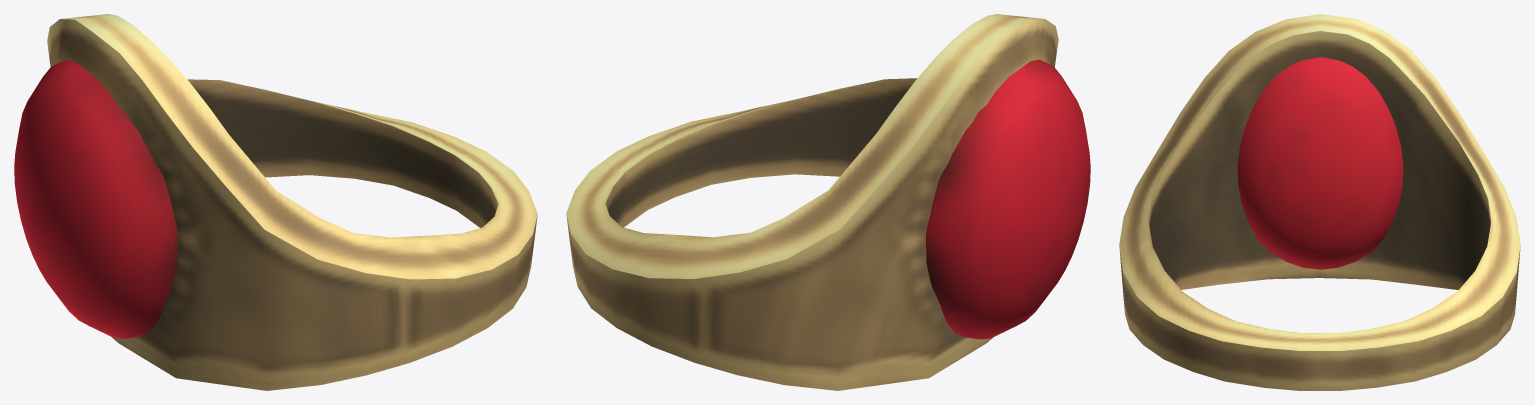
Rendered from SM_Ring_C_Gold.fbx.
The picture shows the model from 3 angles, left to right: view 1: azimuth 30°, elevation 25°; view 2: azimuth 150°, elevation 25°; view 3: azimuth 270°, elevation 25°; orthographic projection. The views are drawn at different scales.
Parts seen in each view (by area): view 1: SM_Ring_C_Gold_LOD0; view 2: SM_Ring_C_Gold_LOD0; view 3: SM_Ring_C_Gold_LOD0.
Part boxes in pixels (<box>): SM_Ring_C_Gold_LOD0: <box>14,14,537,390</box>; SM_Ring_C_Gold_LOD0: <box>566,14,1090,390</box>; SM_Ring_C_Gold_LOD0: <box>1119,14,1520,390</box>.
Bounding box in the file's own units: 3.37 × 3.21 × 2.2.
2 materials, 2 textured.
